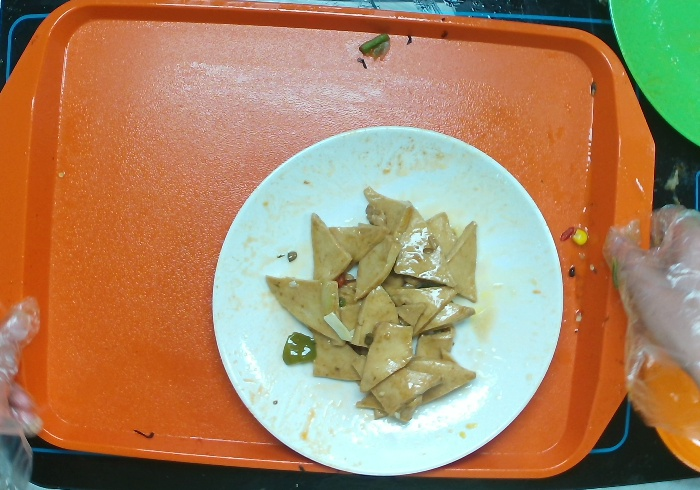HZYJPL-Bai_Se_Yuan_Pan: (210, 125, 565, 477)
